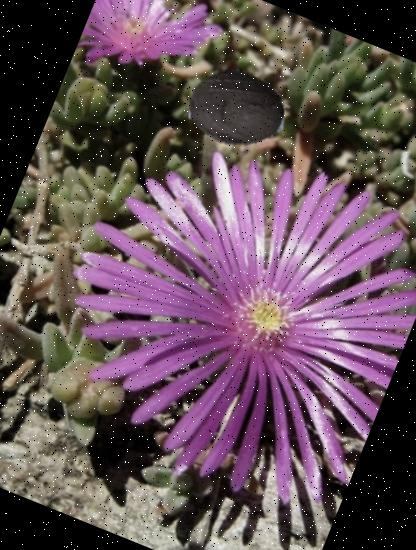Cocos: (174, 46, 298, 170)
